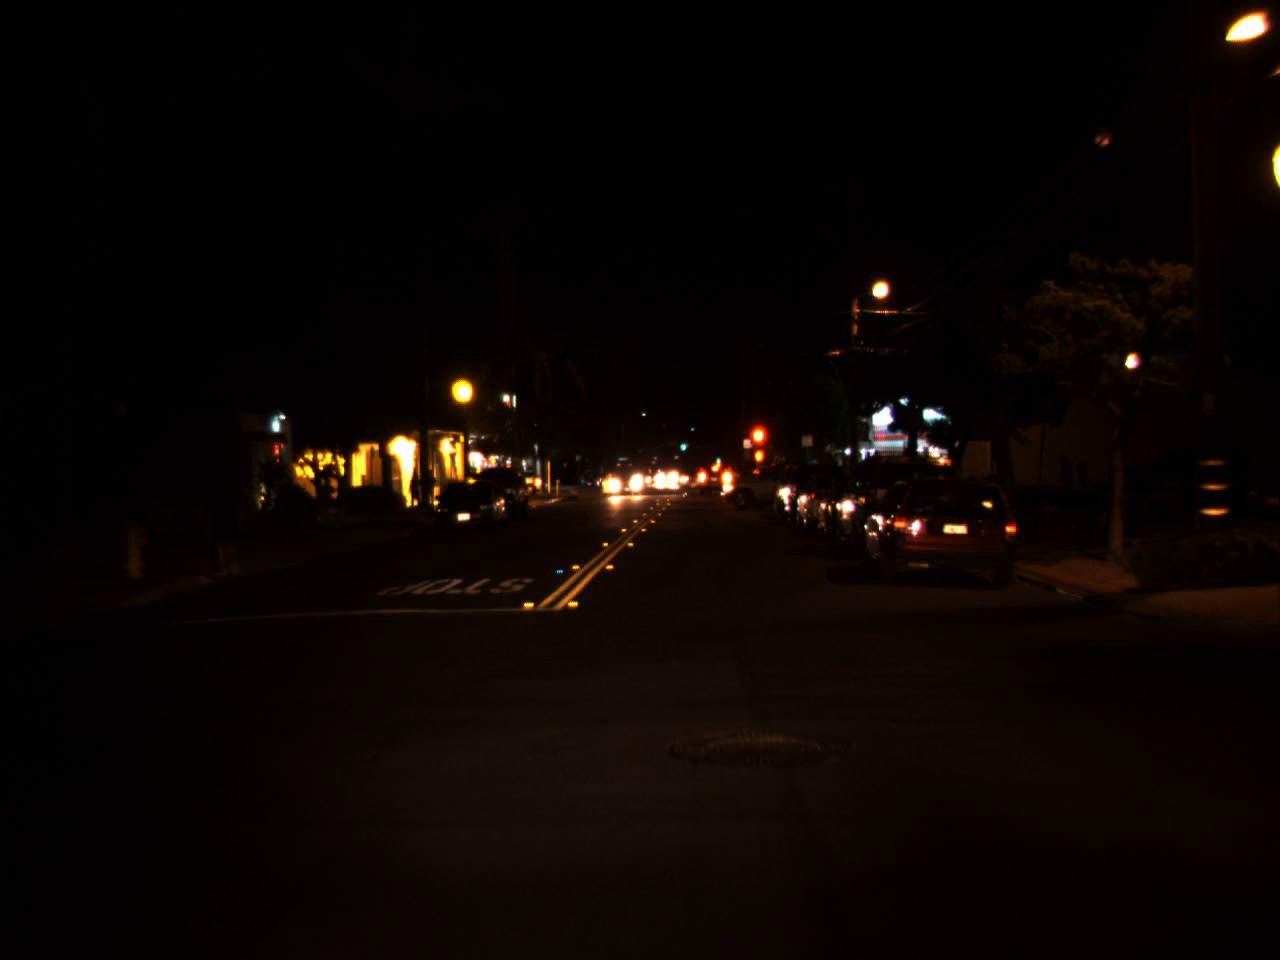go: (678, 435, 687, 453), (714, 450, 723, 465)
stop: (746, 421, 770, 475)
